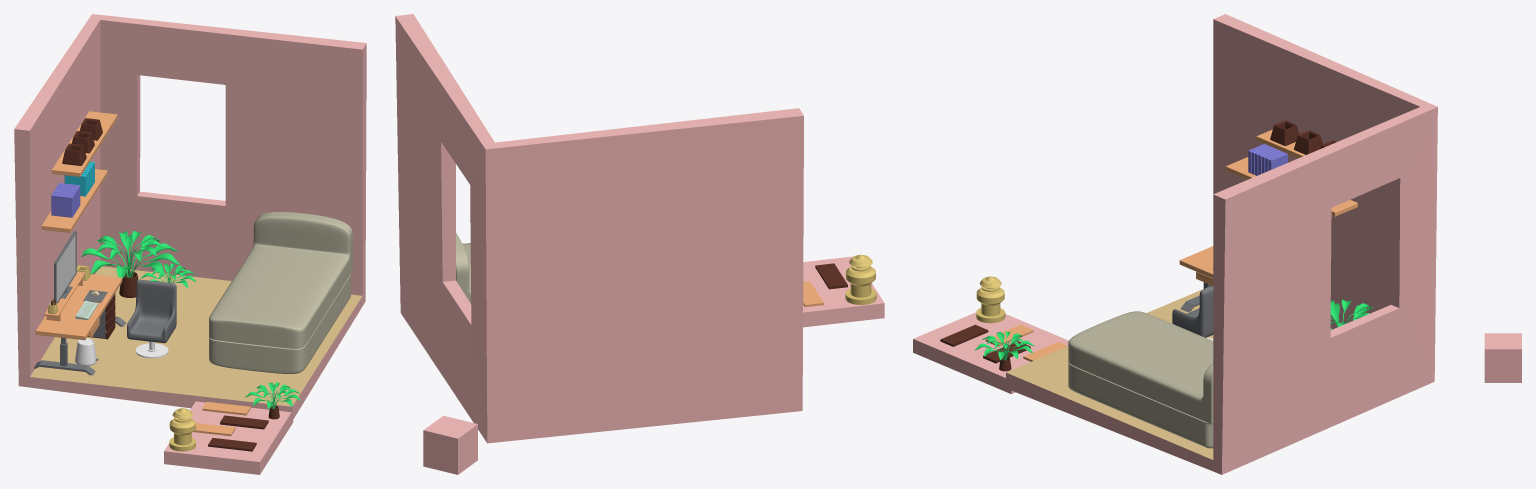
File: room.glb
The picture shows the model from 3 angles, left to right: view 1: azimuth 30°, elevation 25°; view 2: azimuth 150°, elevation 25°; view 3: azimuth 270°, elevation 25°; orthographic projection. The views are drawn at different scales.
Parts seen in each view (by area): view 1: walls, bed, mini-floor, shelves, floor-items, table, plants, table-items, computer, post, mini-plant, tile2 (+3 smaller); view 2: walls, mini-floor, Cube, post, bed, tile4; view 3: walls, bed, mini-floor, shelves, Cube, floor-items, post, table, mini-plant.
Boxes of the visible parts, left/top/right/bottom form: walls: left=14, top=14, right=366, bottom=420; bed: left=209, top=212, right=352, bottom=373; mini-floor: left=164, top=401, right=293, bottom=474; shelves: left=41, top=111, right=117, bottom=232; floor-items: left=75, top=279, right=176, bottom=365; table: left=34, top=274, right=126, bottom=375; plants: left=81, top=231, right=196, bottom=297; table-items: left=44, top=265, right=107, bottom=321; computer: left=54, top=231, right=76, bottom=303; post: left=169, top=408, right=195, bottom=451; mini-plant: left=245, top=382, right=300, bottom=419; tile2: left=220, top=415, right=268, bottom=429; walls: left=395, top=14, right=803, bottom=443; mini-floor: left=803, top=256, right=884, bottom=327; Cube: left=423, top=415, right=477, bottom=474; post: left=845, top=254, right=876, bottom=304; bed: left=456, top=233, right=470, bottom=303; tile4: left=815, top=263, right=847, bottom=289; walls: left=1006, top=14, right=1437, bottom=474; bed: left=1068, top=311, right=1213, bottom=448; mini-floor: left=913, top=312, right=1068, bottom=393; shelves: left=1225, top=120, right=1357, bottom=216; Cube: left=1484, top=333, right=1521, bottom=382; floor-items: left=1172, top=286, right=1213, bottom=340; post: left=976, top=276, right=1005, bottom=323; table: left=1179, top=246, right=1213, bottom=312; mini-plant: left=975, top=331, right=1034, bottom=371.
Bounding box in the file's own units: 17.8 × 12.77 × 24.67.
